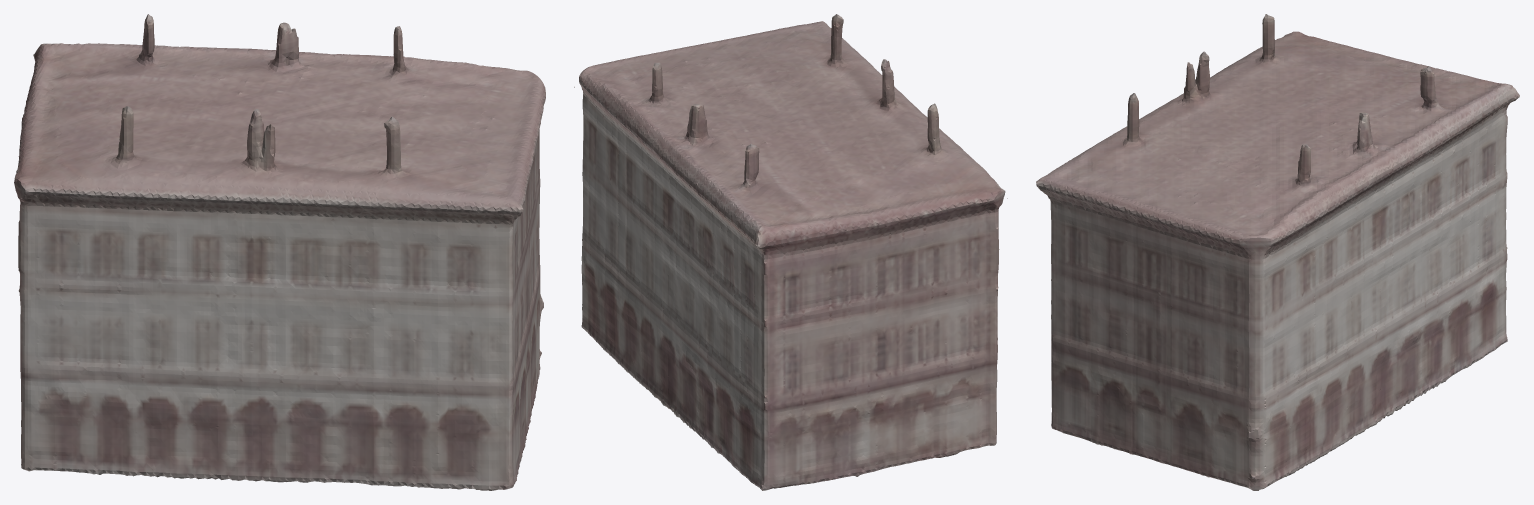
File: soportales.glb
3 renders of one model, left to right at view 1: azimuth 30°, elevation 25°; view 2: azimuth 150°, elevation 25°; view 3: azimuth 270°, elevation 25°, orthographic. The views are drawn at different scales.
Visible parts, largest first — view 1: world; view 2: world; view 3: world.
Part boxes in pixels (left/top/right/bottom): world: left=14, top=14, right=545, bottom=490; world: left=574, top=14, right=1007, bottom=490; world: left=1036, top=14, right=1519, bottom=490.
Size of the model in its own units: 2 by 1.37 by 1.94.
